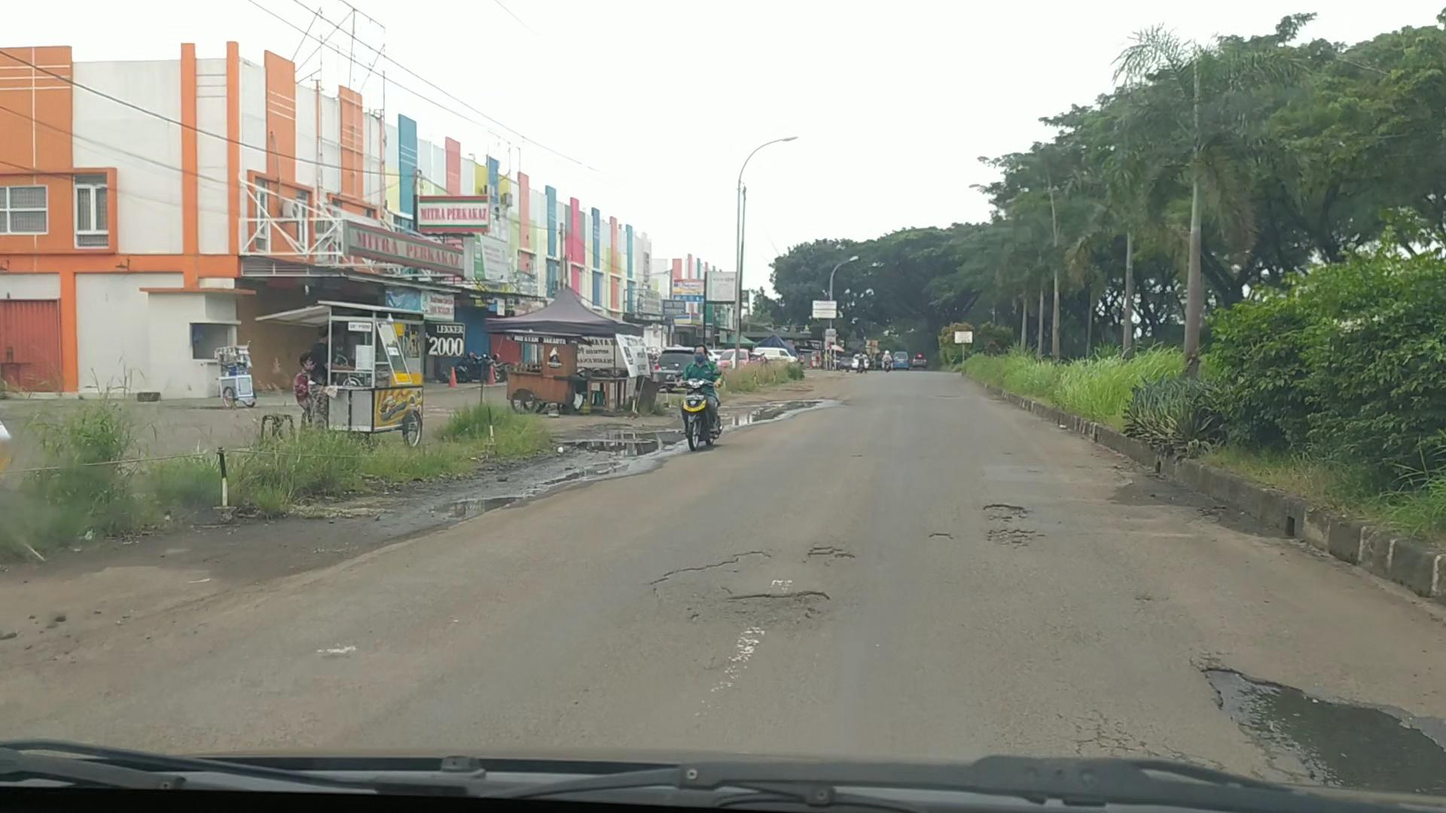pothole: (1202, 665, 1446, 800), (649, 547, 834, 631), (984, 527, 1044, 549), (982, 502, 1033, 523), (806, 546, 856, 561), (927, 532, 956, 540)
